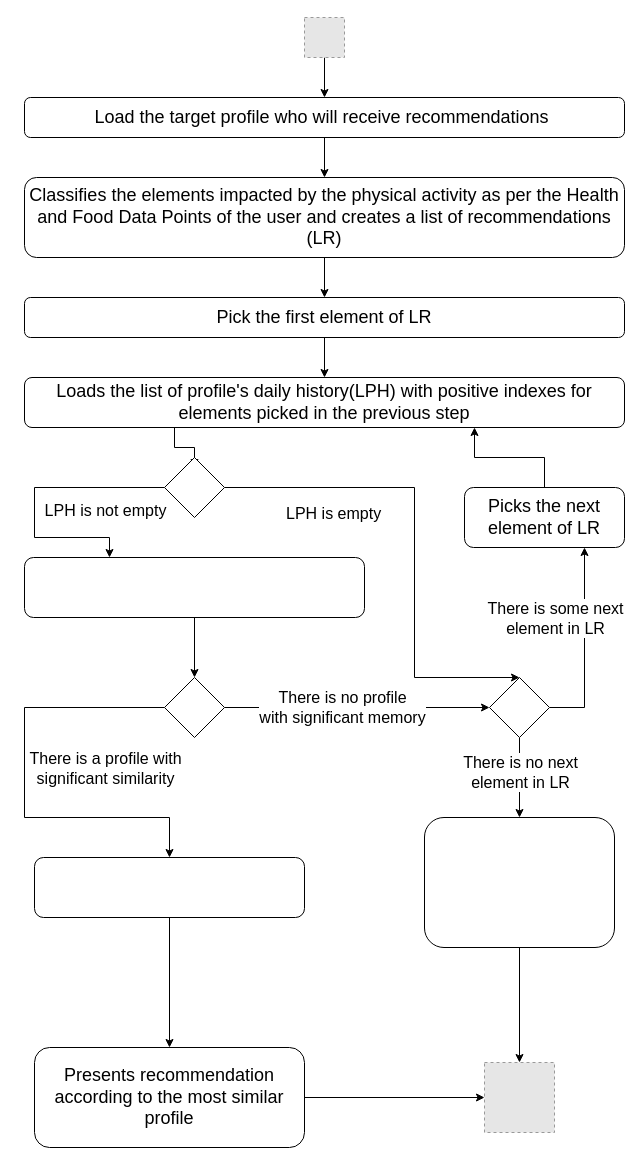
Image size: 642x1165. Some labels were removed from this diagram. Grey dashed boxes stand in for pictures. Here are the shapes that lost their labels. From the top down, the centre of each, then its label:
At (194,587): "Calculates similarity between the target profile and profiles from LPH".
At (169,887): "Sorts profiles in ascending order of similarity".
At (519,882): "Presents default recommendations according to treatment plan".
